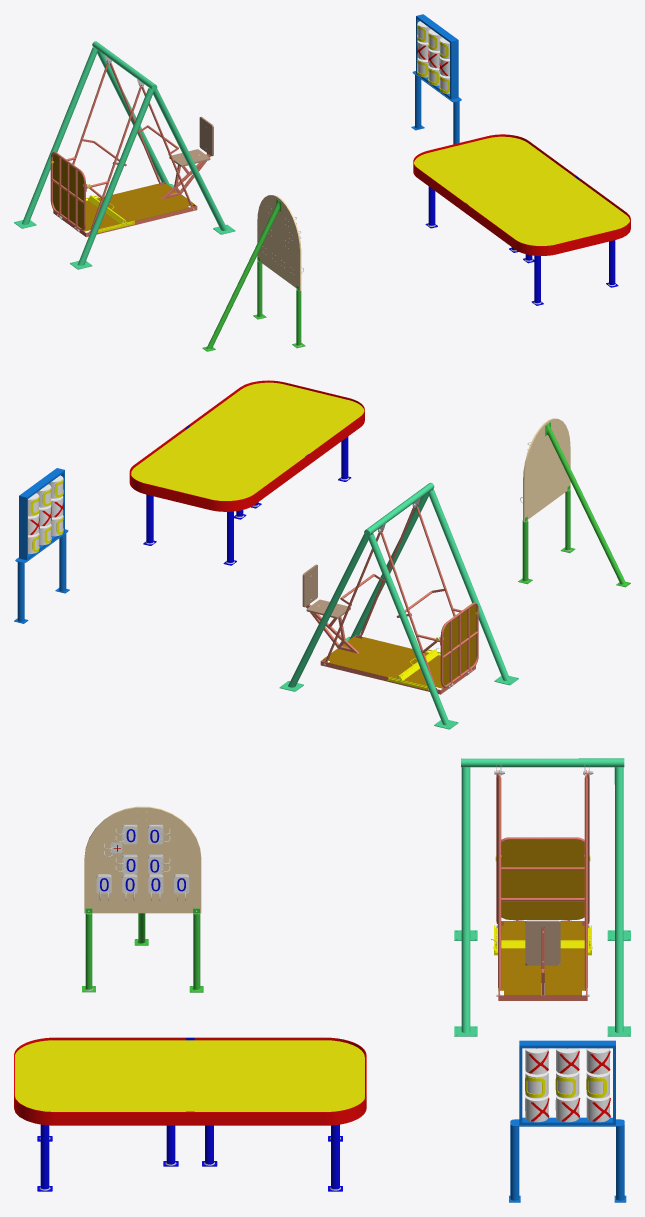
Rendered from JUEGOS_INTEGRADORES.glb.
3 renders of one model, top to bottom at view 1: azimuth 30°, elevation 25°; view 2: azimuth 150°, elevation 25°; view 3: azimuth 270°, elevation 25°, orthographic. The views are drawn at different scales.
Parts seen in each view (by area): view 1: JUEGOS DE PLAZA; view 2: JUEGOS DE PLAZA; view 3: JUEGOS DE PLAZA.
Boxes of the visible parts, box(x1,y1,x2,y2) form: JUEGOS DE PLAZA: box(14, 14, 630, 351); JUEGOS DE PLAZA: box(14, 380, 630, 729); JUEGOS DE PLAZA: box(14, 758, 630, 1202).
Size of the model in its own units: 5.52 by 2.12 by 5.27.
